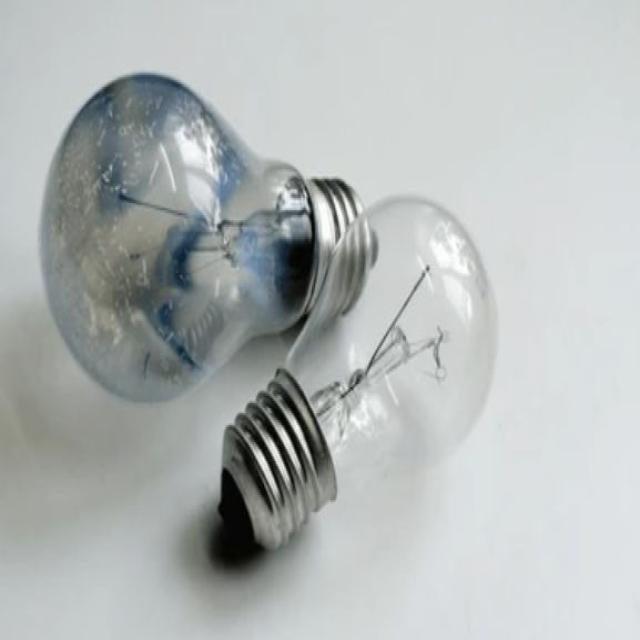electronic: (38, 68, 378, 404), (216, 189, 497, 552)
